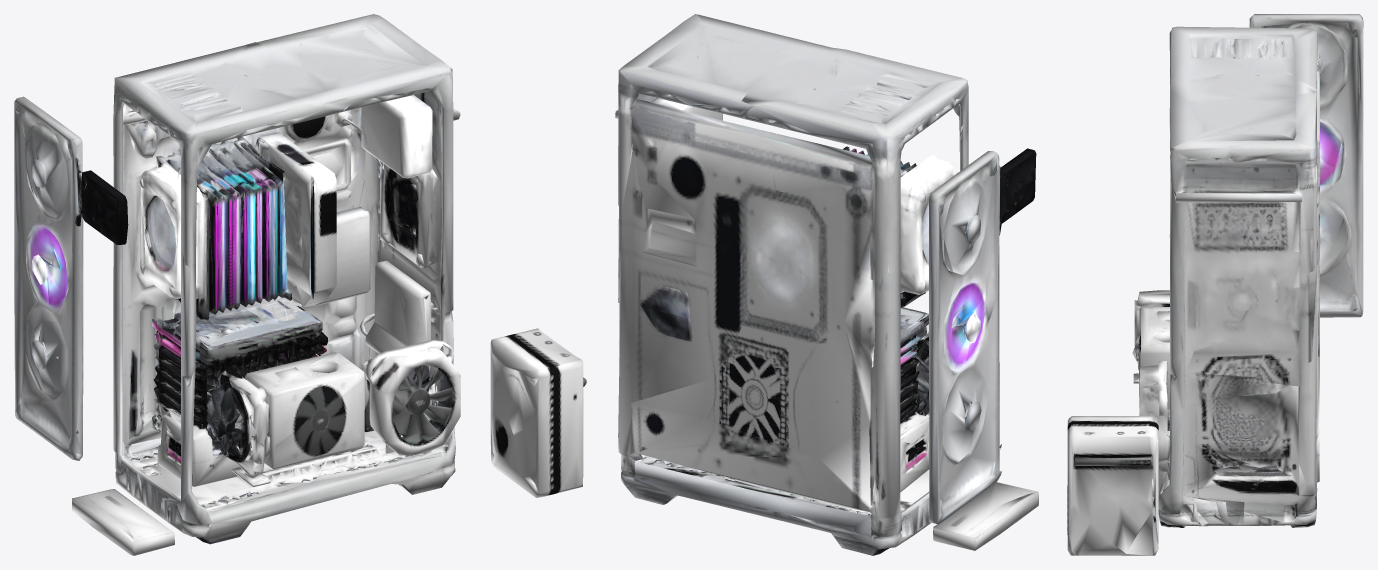
Rendered from compuzone_p2364w_pc_build_kit.proxy.glb.
The picture shows the model from 3 angles, left to right: view 1: azimuth 30°, elevation 25°; view 2: azimuth 150°, elevation 25°; view 3: azimuth 270°, elevation 25°; orthographic projection. The views are drawn at different scales.
Parts seen in each view (by area): view 1: Mesh_0; view 2: Mesh_0; view 3: Mesh_0.
Boxes of the visible parts, x1,y1,x2,y2 form: Mesh_0: (14, 14, 586, 555); Mesh_0: (615, 14, 1038, 555); Mesh_0: (1067, 14, 1363, 555).
Bounding box in the file's own units: 0.42 × 0.39 × 0.27.
Materials: 1 (1 with a texture image).
